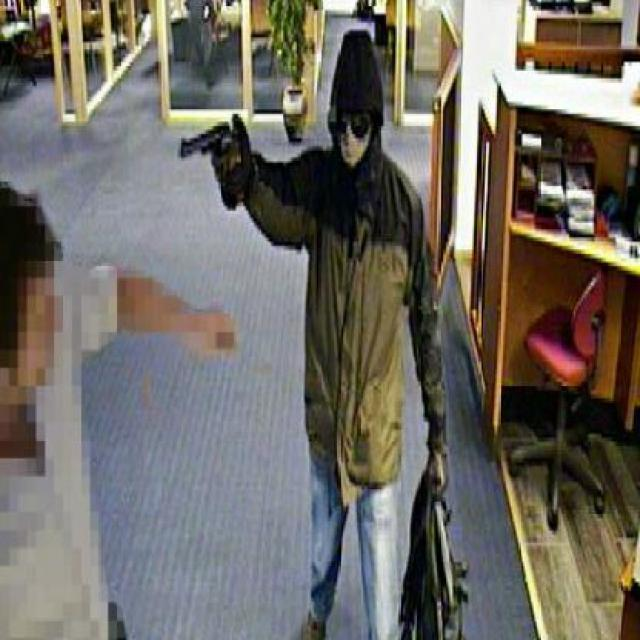weapon: (172, 116, 260, 215)
